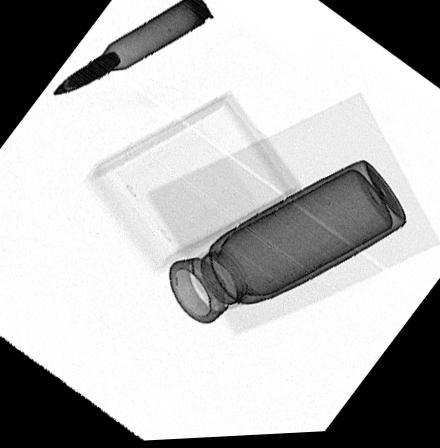Bullet: (51, 0, 215, 96)
